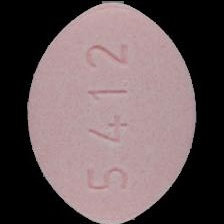0172-5412: (0, 0, 224, 224)
